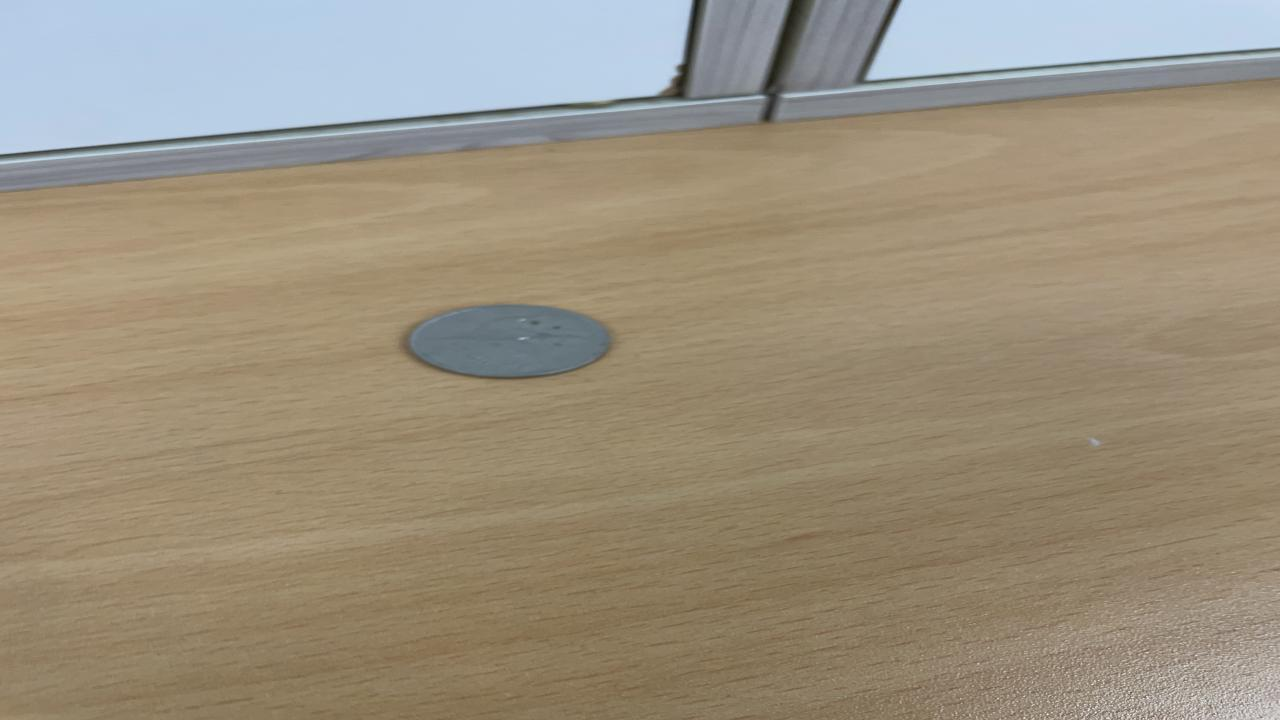coin: (404, 303, 618, 380)
